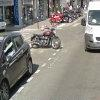Motorcycle: (28, 26, 64, 53)
